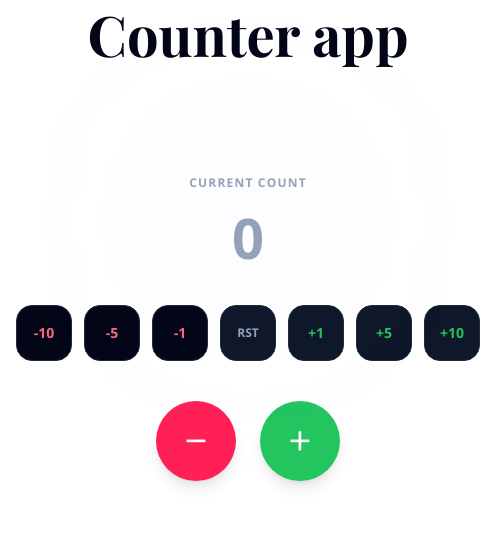
Test case: Counter component › resets count after incrementing
This screenshot has width=497, height=554.
Click the button named "Increment by 1" at [300, 440], box [260,400,340,480]
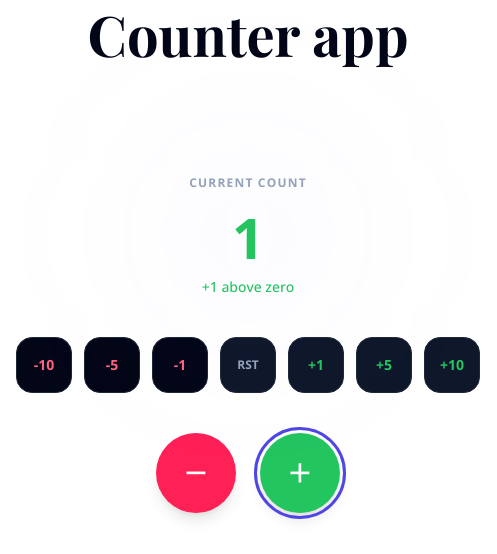
Click the button with aria-label "Reset counter" at [248, 364], box [220,336,276,392]
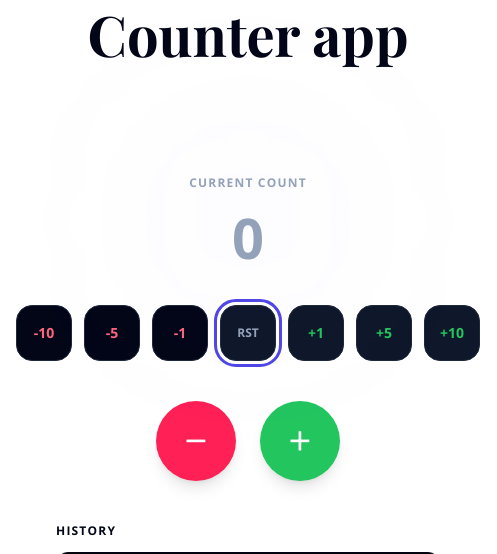
Expected: the text "+1 above zero" is gone
